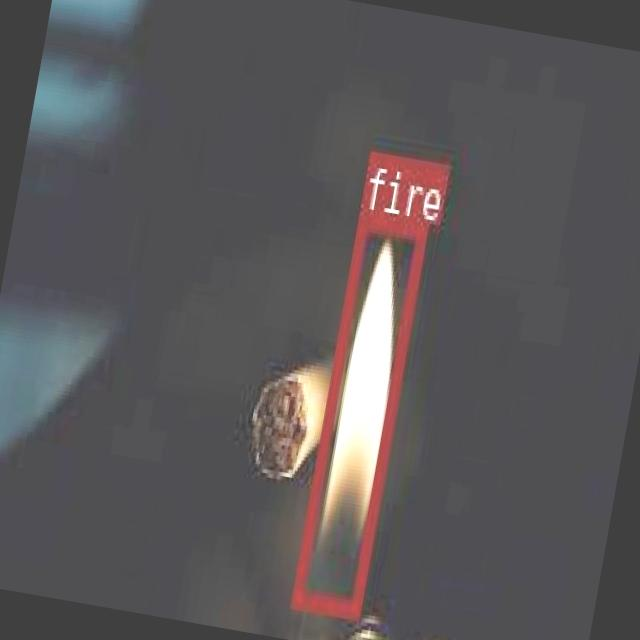fire: (288, 208, 426, 615)
